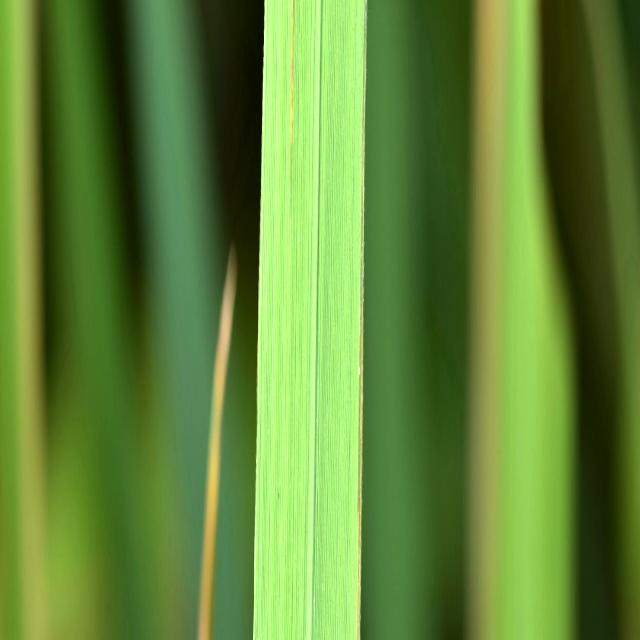BLS: (358, 0, 367, 636), (291, 0, 295, 198)
